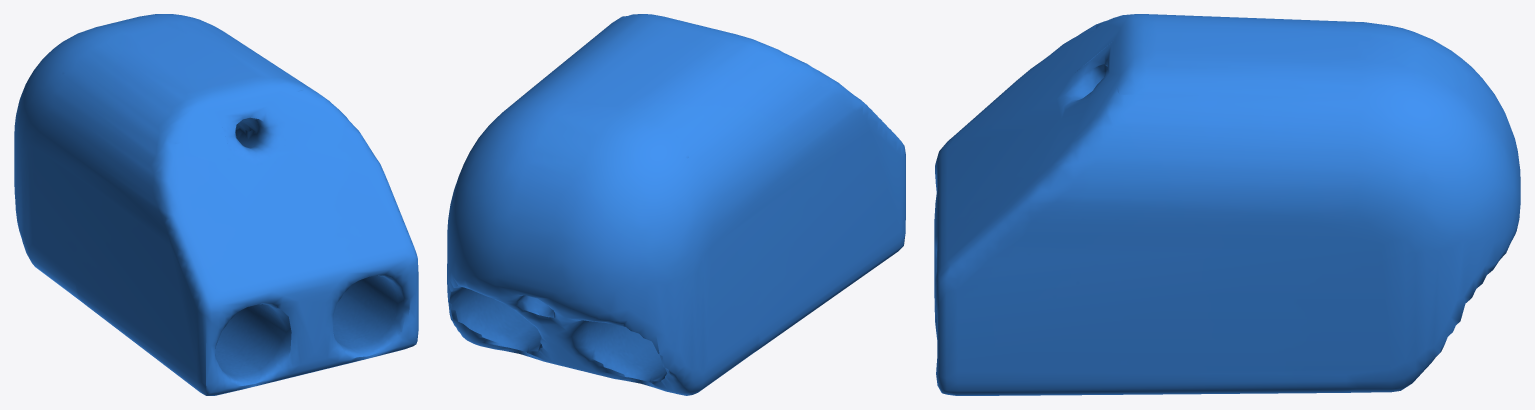
File: left_finger3_upper.obj
3 renders of one model, left to right at view 1: azimuth 30°, elevation 25°; view 2: azimuth 150°, elevation 25°; view 3: azimuth 270°, elevation 25°, orthographic. The views are drawn at different scales.
Visible parts, largest first — view 1: left_finger3_upper; view 2: left_finger3_upper; view 3: left_finger3_upper.
Boxes of the visible parts, <box> form: left_finger3_upper: <box>14,14,418,395</box>; left_finger3_upper: <box>447,14,905,395</box>; left_finger3_upper: <box>934,14,1520,395</box>.
Size of the model in its own units: 0.0107 by 0.0109 by 0.0196.
Materials: 1 (1 with a texture image).
